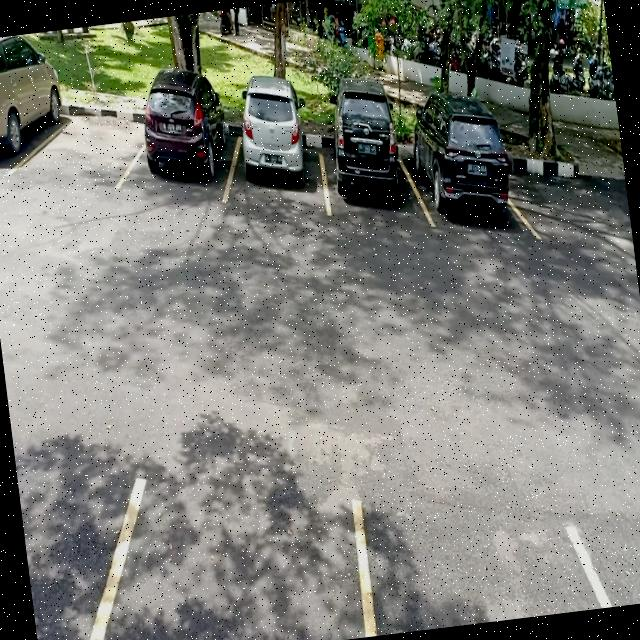empty: (36, 94, 147, 198)
occupied: (404, 96, 520, 228), (227, 96, 329, 223), (134, 94, 238, 208), (315, 107, 417, 218), (0, 50, 70, 179)
